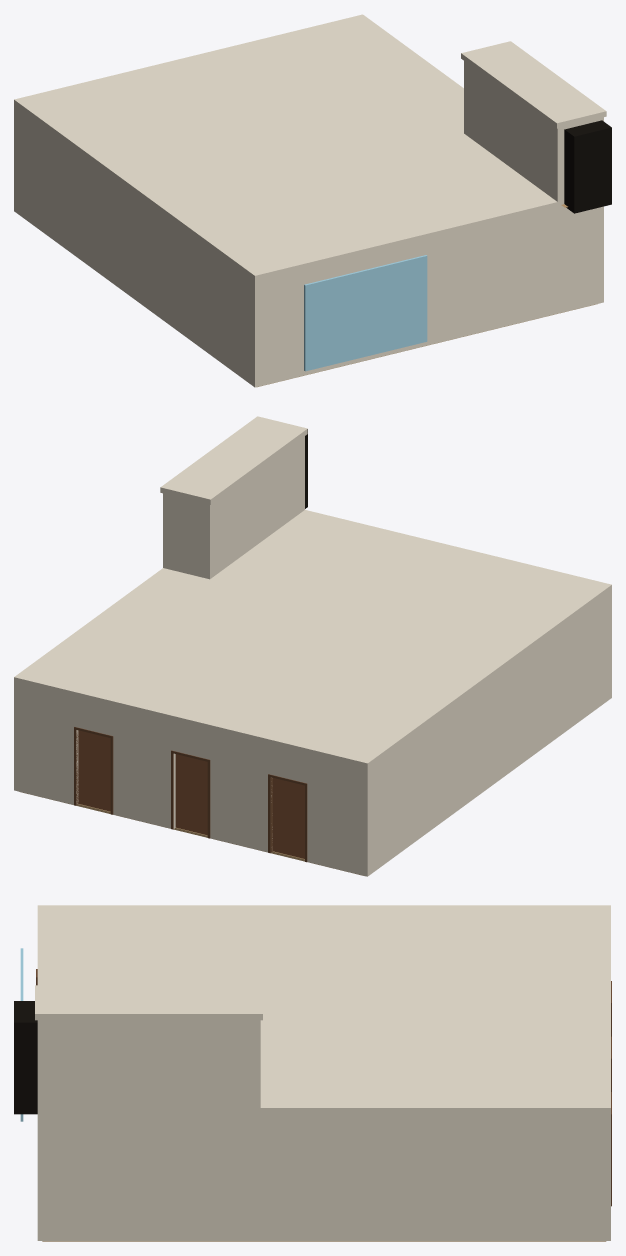
The model's file is room_living.glb.
3 renders of one model, top to bottom at view 1: azimuth 30°, elevation 25°; view 2: azimuth 150°, elevation 25°; view 3: azimuth 270°, elevation 25°, orthographic. The views are drawn at different scales.
Visible parts, largest first — view 1: CEILING, WALLS, SHAFT, VIEW_window, STAIRWELL; view 2: CEILING, WALLS, SHAFT, DOOR_kitchen, DOOR_exit, DOOR_bath, FRAMES; view 3: CEILING, WALLS, SHAFT, STAIRWELL, FLOOR_visible.
Part boxes in pixels (box(x1,y1,x2,y2)): CEILING: box(14, 14, 557, 279); WALLS: box(14, 104, 603, 387); SHAFT: box(461, 41, 606, 205); VIEW_window: box(304, 255, 427, 371); STAIRWELL: box(564, 120, 611, 213); CEILING: box(14, 510, 611, 767); WALLS: box(14, 589, 611, 876); SHAFT: box(160, 416, 307, 579); DOOR_kitchen: box(78, 730, 110, 811); DOOR_exit: box(175, 754, 207, 835); DOOR_bath: box(273, 778, 304, 858); FRAMES: box(74, 727, 307, 862); CEILING: box(37, 905, 610, 1113); WALLS: box(37, 1113, 610, 1240); SHAFT: box(35, 985, 262, 1113); STAIRWELL: box(14, 1001, 37, 1114); FLOOR_visible: box(42, 1241, 606, 1241).
Bounding box in the file's own units: 10.25 × 5.41 × 12.72.
